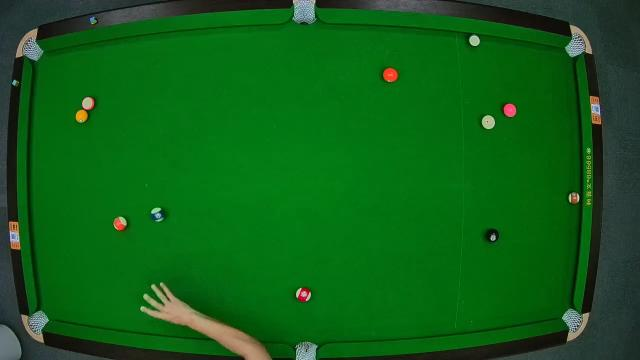bag1: (22, 38, 44, 62)
bag2: (293, 1, 315, 23)
bag3: (566, 34, 586, 57)
bag4: (29, 308, 49, 334)
bag5: (294, 342, 320, 360)
bag6: (562, 310, 582, 332)
ball0: (480, 114, 496, 131)
ball1: (74, 109, 88, 124)
ball10: (148, 206, 166, 221)
ball11: (294, 287, 312, 303)
ball12: (82, 96, 95, 110)
ball13: (112, 214, 130, 232)
ball14: (466, 33, 482, 49)
ball15: (568, 192, 580, 204)
ball4: (499, 104, 515, 118)
ball5: (382, 66, 398, 84)
ball8: (486, 228, 500, 243)
